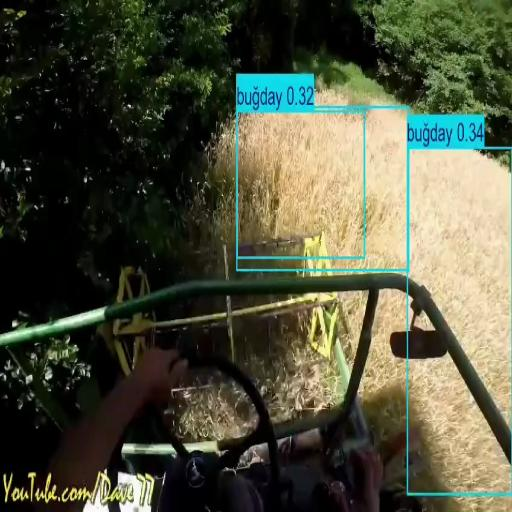bugday: (409, 152, 511, 424), (239, 115, 362, 253), (411, 361, 508, 491), (361, 109, 406, 267), (185, 124, 235, 246), (363, 291, 409, 396)
